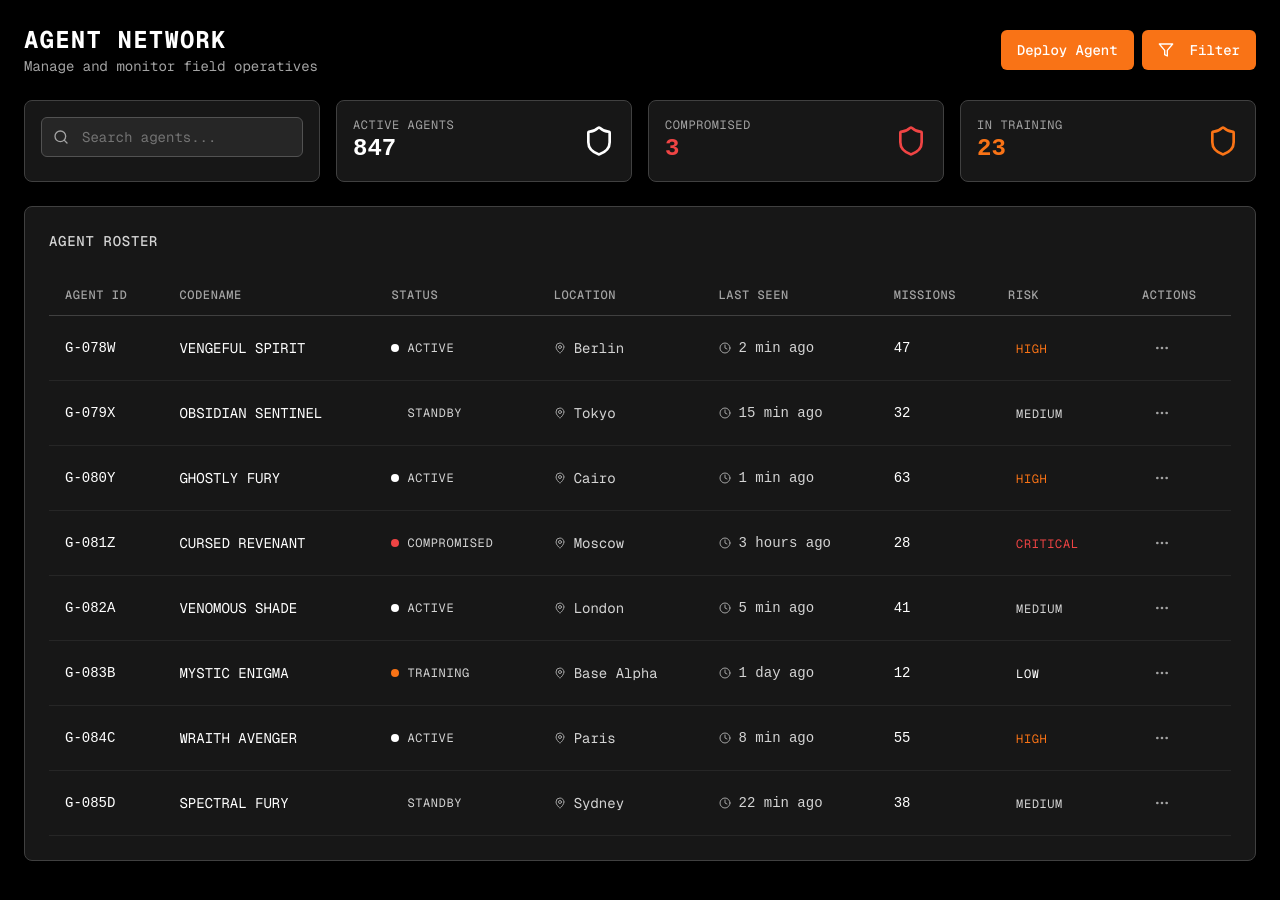
Test case: AgentNetworkPage › shows no agents when search term matches nothing
In the field with placeholder "Search agents...": (172, 137) [41, 117, 303, 157], type "NONEXISTENT"
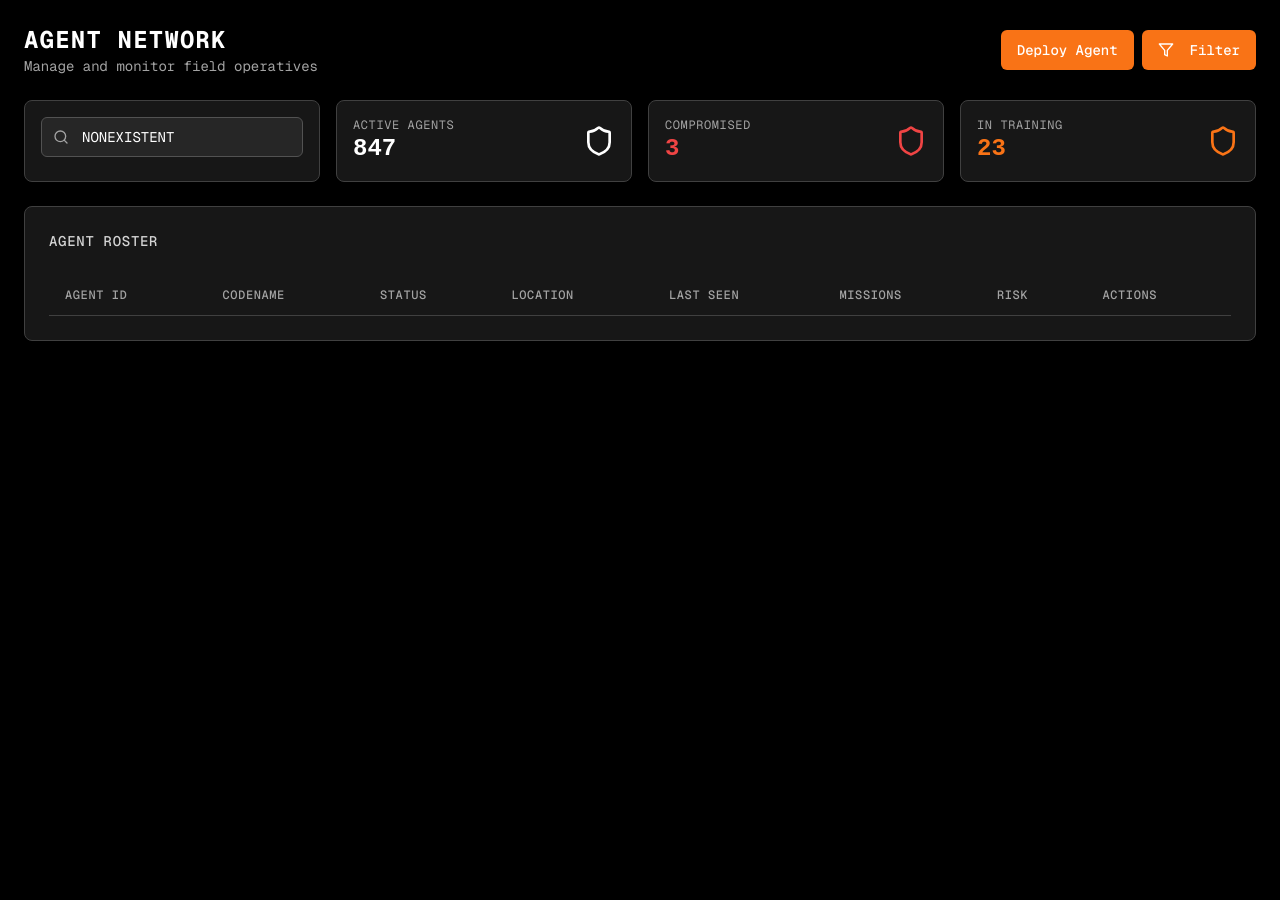
Now the text "VENGEFUL SPIRIT" is gone
Now the text "OBSIDIAN SENTINEL" is gone
